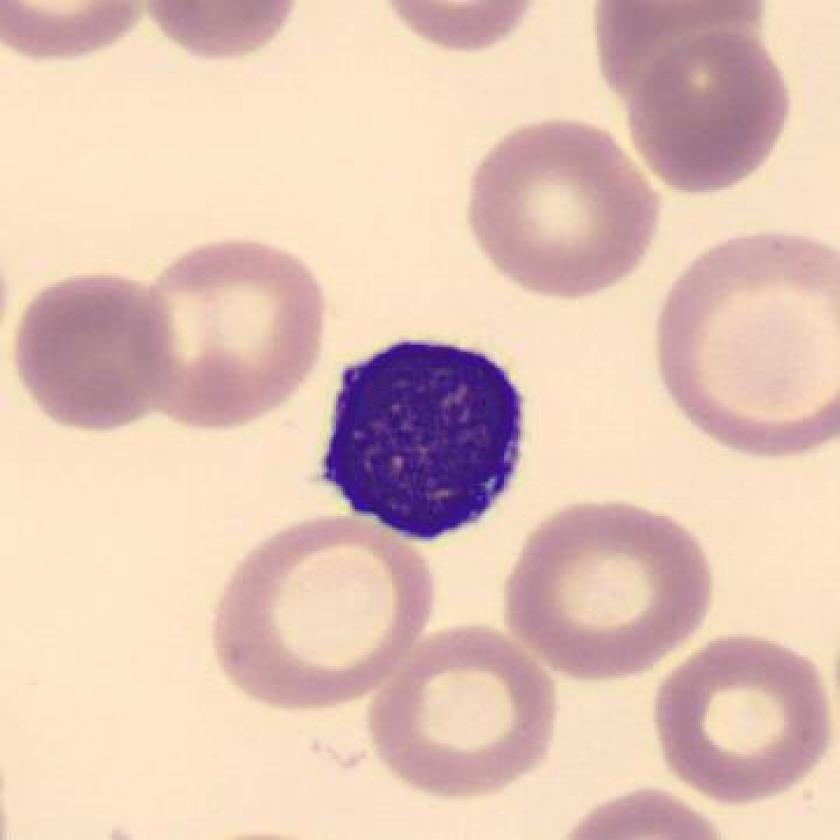lymphocyte: (316, 327, 542, 561)
